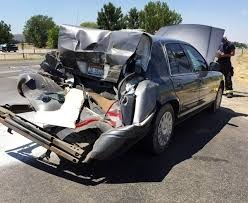Dent: (13, 28, 154, 158)
